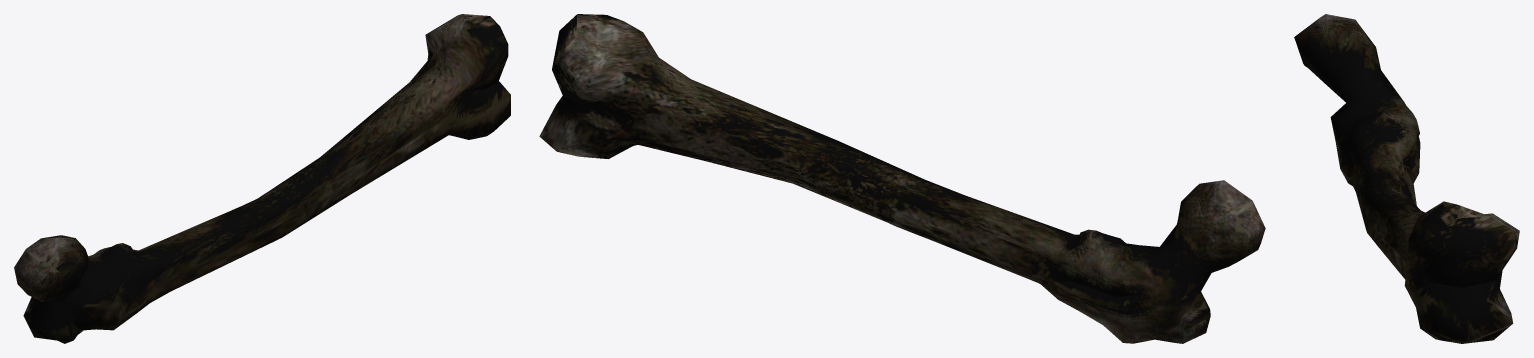
Rendered from human_bone_charred.dae.
3 renders of one model, left to right at view 1: azimuth 30°, elevation 25°; view 2: azimuth 150°, elevation 25°; view 3: azimuth 270°, elevation 25°, orthographic. The views are drawn at different scales.
Parts seen in each view (by area): view 1: polySurface1; view 2: polySurface1; view 3: polySurface1.
Boxes of the visible parts, x1,y1,x2,y2 form: polySurface1: (14,14,510,343); polySurface1: (539,14,1265,343); polySurface1: (1294,14,1519,343).
Size of the model in its own units: 0.6789 by 0.2313 by 0.2135.
